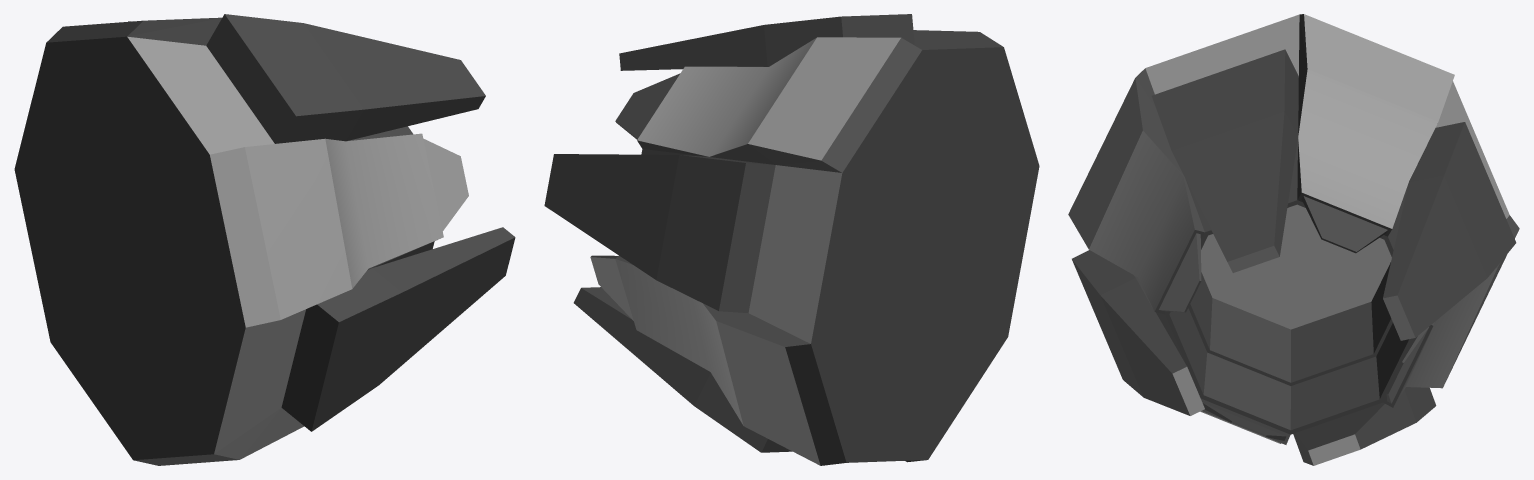
The model's file is Moteur_1.FBX.
3 views of the same model, side by side, from view 1: azimuth 30°, elevation 25°; view 2: azimuth 150°, elevation 25°; view 3: azimuth 270°, elevation 25° (orthographic). The views are drawn at different scales.
Visible parts, largest first — view 1: Cone005; view 2: Cone005; view 3: Cone005.
Part boxes in pixels (box(x1,y1,x2,y2)): Cone005: box(14, 14, 515, 465); Cone005: box(544, 14, 1039, 465); Cone005: box(1068, 14, 1519, 465).
Size of the model in its own units: 14.91 by 19.51 by 19.51.
